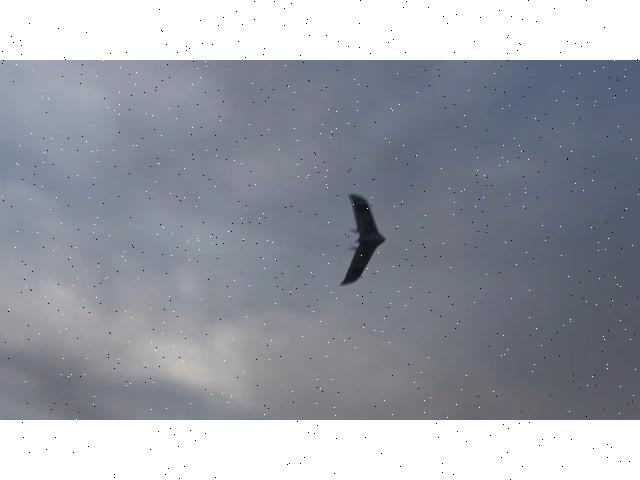Anti-Drone: (340, 194, 386, 286)
